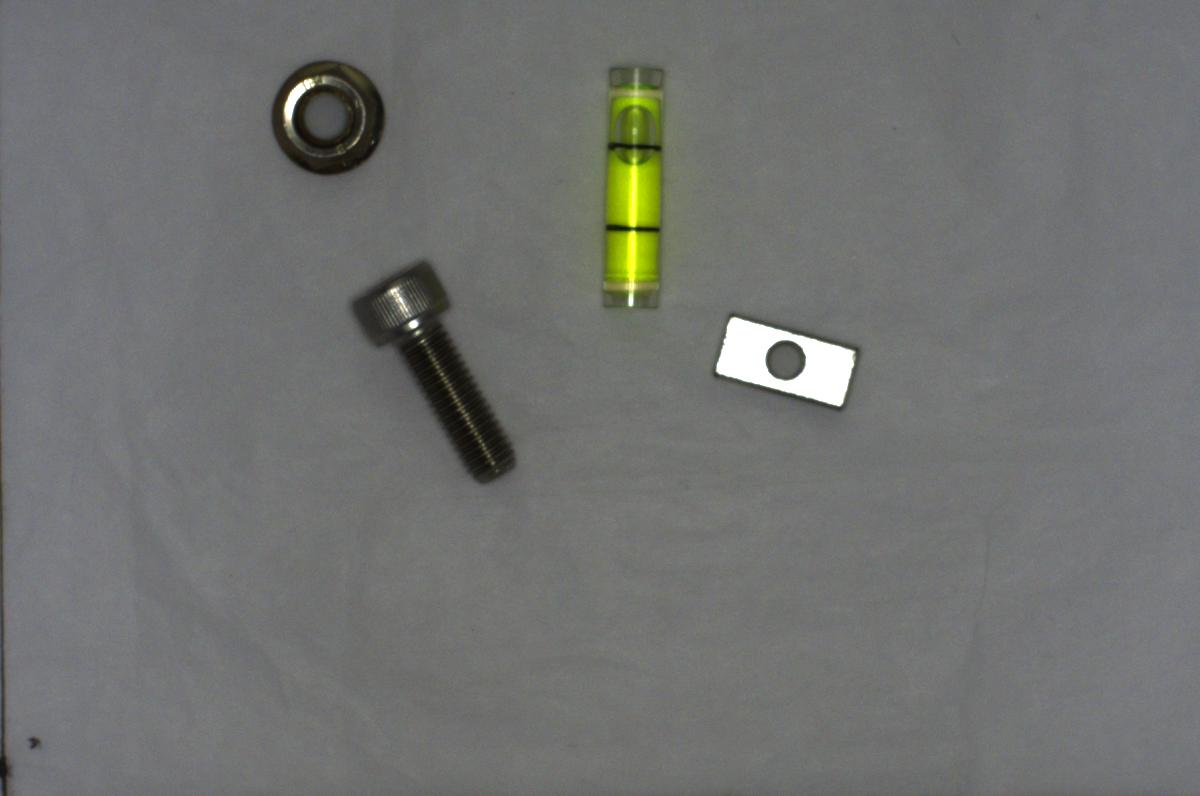Flange nut: (257, 52, 394, 185)
Hexagon screw: (346, 254, 521, 494)
Horizontal bubble: (592, 55, 672, 319)
Rectangular nut: (702, 308, 871, 419)
